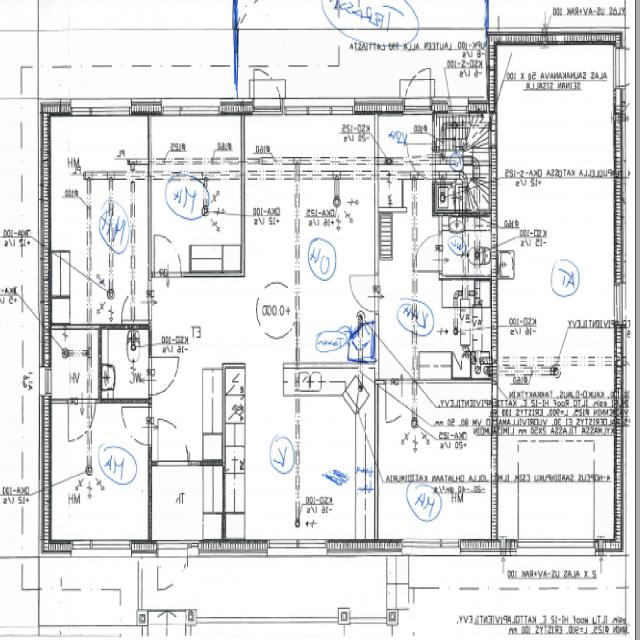door: (157, 538, 187, 596), (254, 59, 281, 115), (404, 60, 431, 115), (158, 418, 188, 465), (408, 231, 442, 272), (68, 398, 96, 444), (154, 233, 182, 278), (386, 377, 414, 422), (120, 406, 152, 445), (120, 281, 152, 319), (346, 274, 378, 312), (148, 357, 178, 393), (407, 144, 437, 179), (614, 46, 640, 86)
